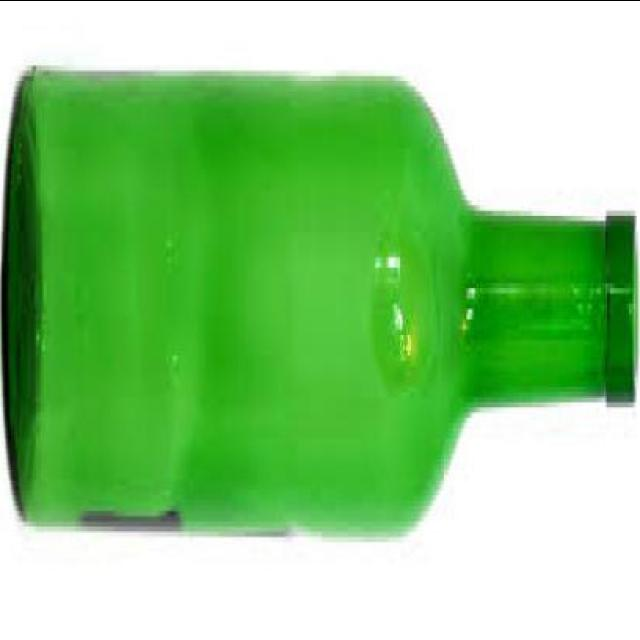kaca: (3, 74, 640, 535)
